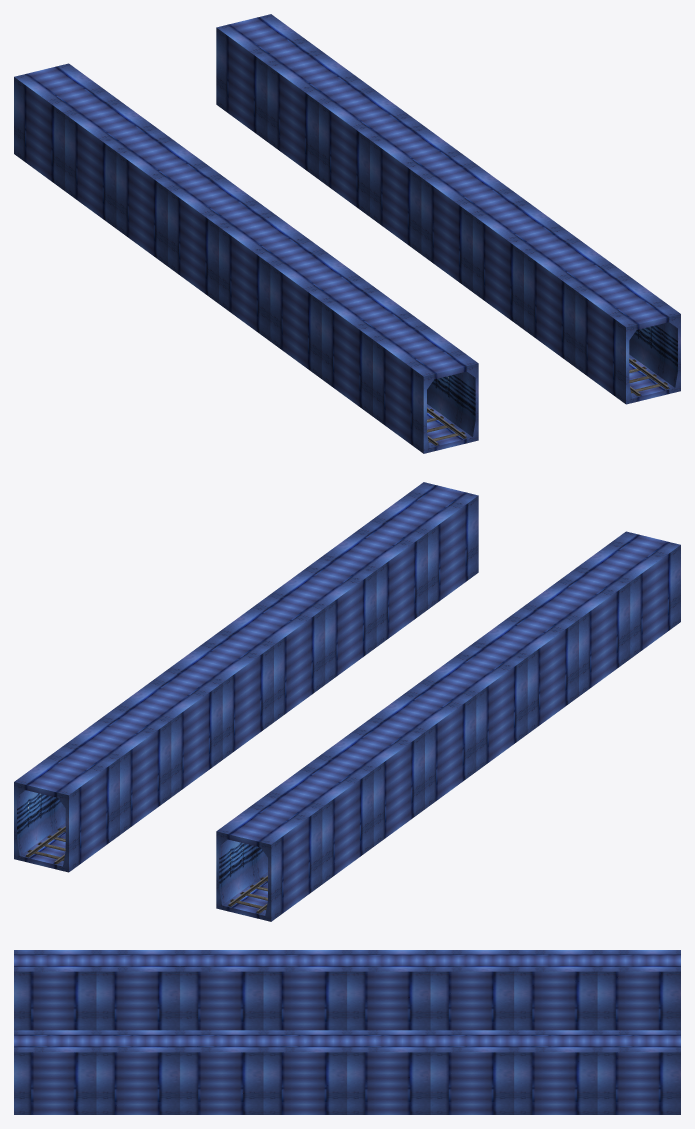
The model's file is SubwayTunnel01.FBX.
3 views of the same model, one above another, from view 1: azimuth 30°, elevation 25°; view 2: azimuth 150°, elevation 25°; view 3: azimuth 270°, elevation 25° (orthographic). The views are drawn at different scales.
Parts seen in each view (by area): view 1: SubwayTunnel01, Subway01RailwayTunnel; view 2: SubwayTunnel01, Subway01RailwayTunnel; view 3: SubwayTunnel01.
Part boxes in pixels (x1=…): SubwayTunnel01: x1=14, y1=14, x2=680, y2=453; Subway01RailwayTunnel: x1=427, y1=358, x2=669, y2=445; SubwayTunnel01: x1=14, y1=482, x2=680, y2=921; Subway01RailwayTunnel: x1=25, y1=826, x2=267, y2=913; SubwayTunnel01: x1=14, y1=950, x2=680, y2=1114.
Size of the model in its own units: 26655 by 7641 by 73544.
